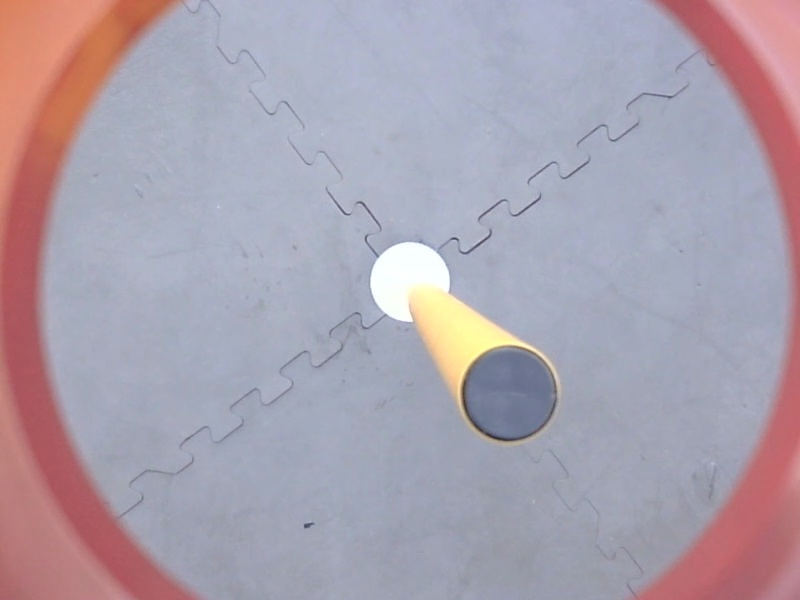tip: (453, 340, 568, 451)
